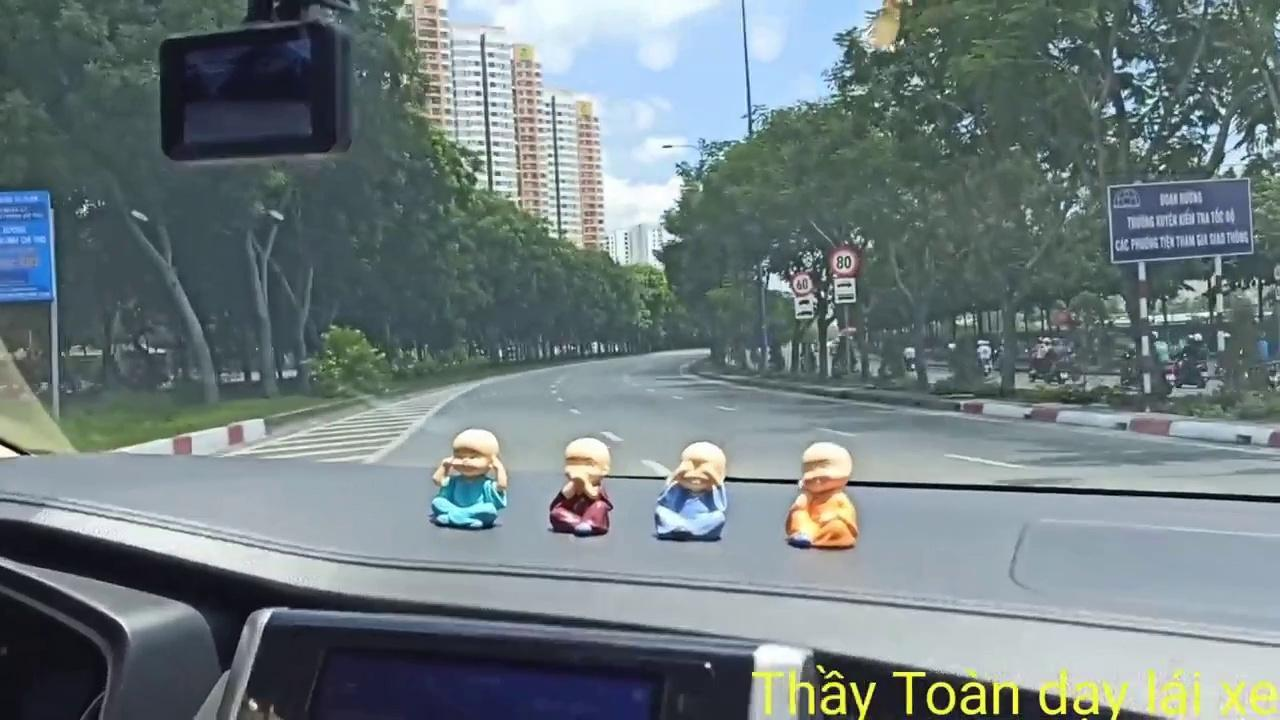Biển phụ: (833, 278, 858, 304), (794, 298, 814, 318)
GIơi hạn tốc độ 60Km/h: (790, 269, 815, 296)
Giới hạn tốc độ 80Km/h: (828, 244, 862, 277)
